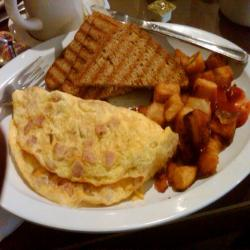bread: (40, 10, 194, 104)
omelette: (5, 82, 190, 214)
